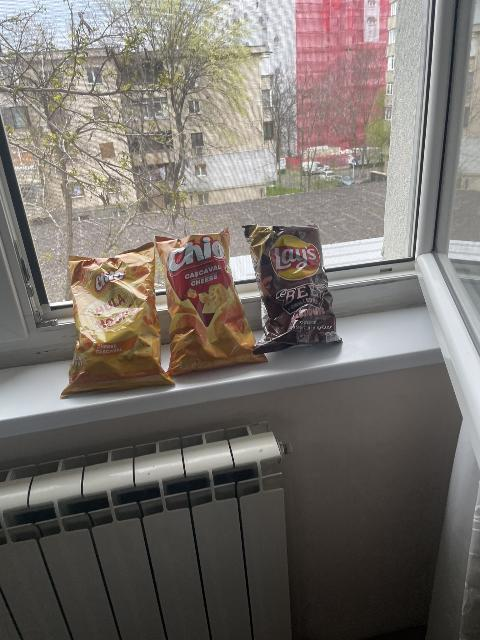Chio Cascaval 125g: (158, 228, 266, 376)
Chio Hula Hoops Cheese 70g: (58, 241, 175, 399)
Lays Beef Grilled Ribs 125g: (248, 222, 341, 352)
